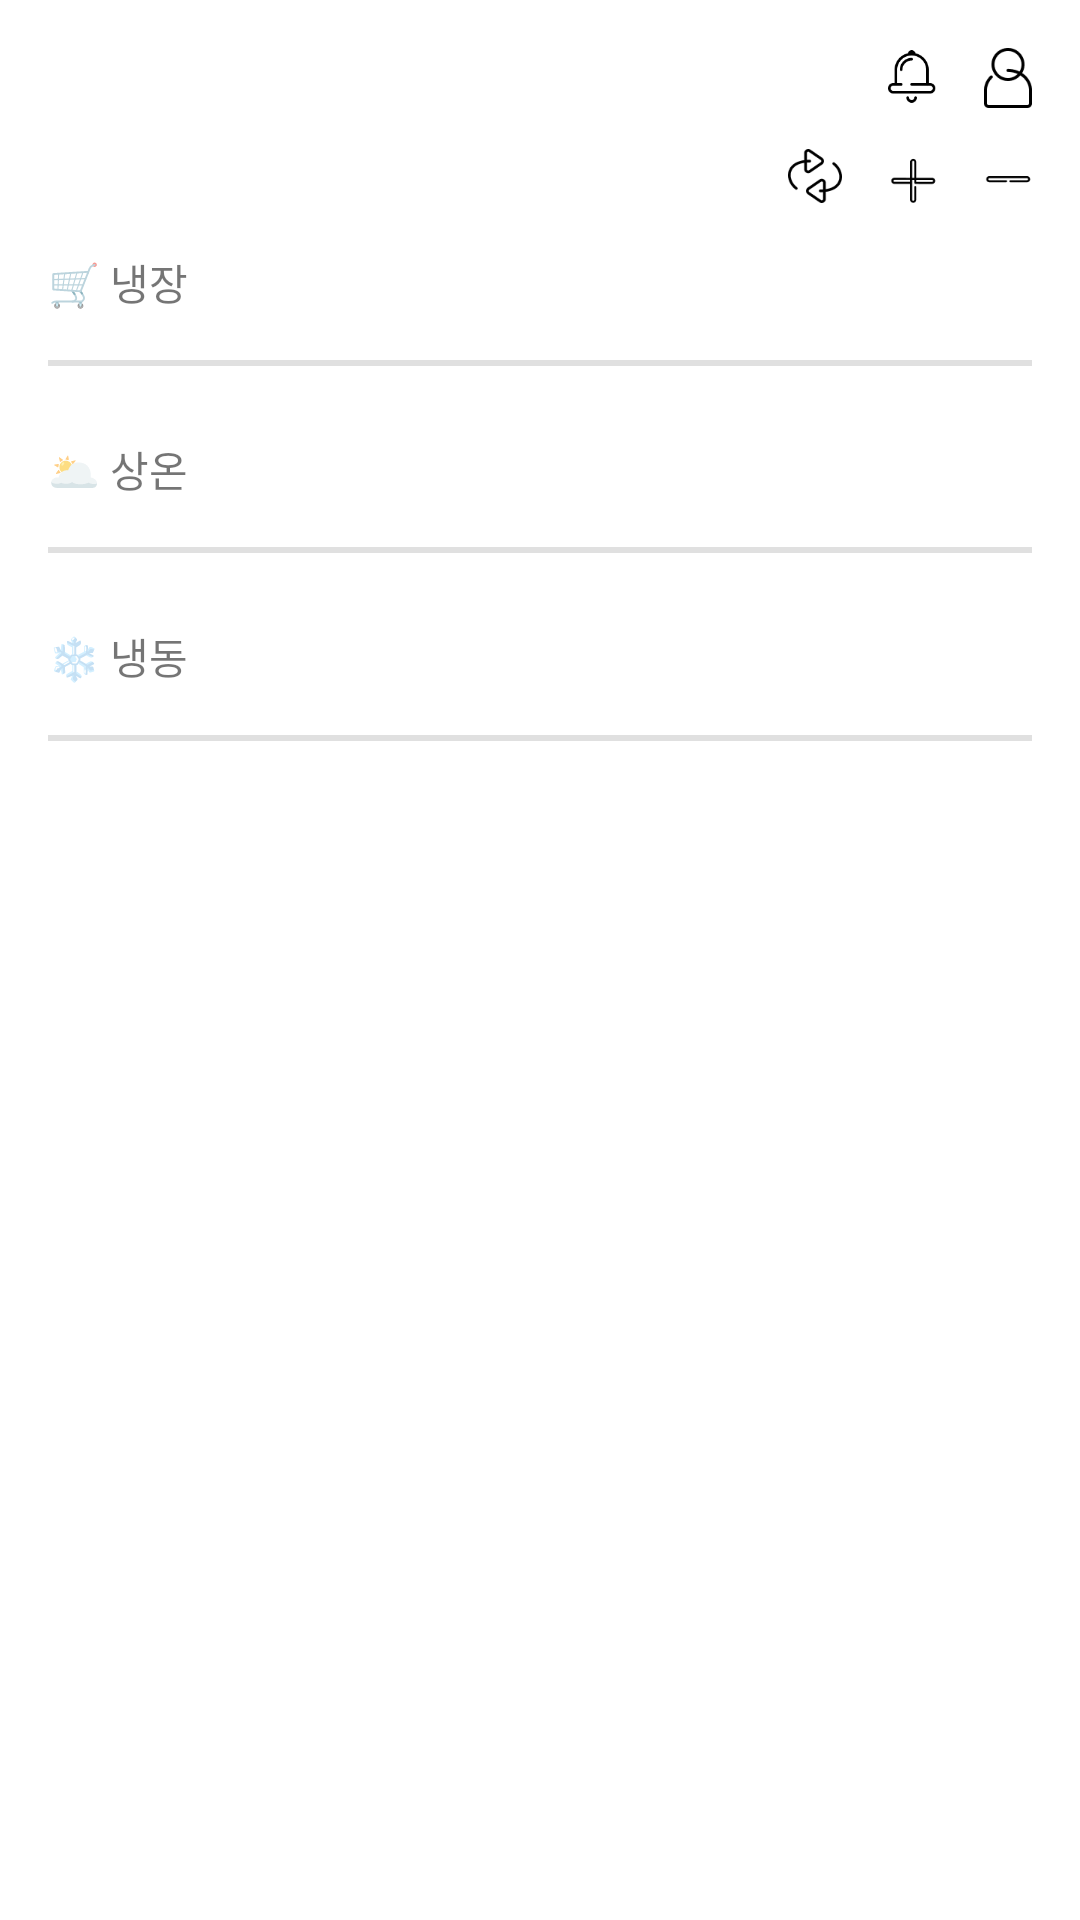

Locate icon controls on the screen. Image size 1080px x 1920px, boxes as [left=x1, top=y1, right=x2, bottom=y2].
alarm: [left=888, top=50, right=936, bottom=103]
profile: [left=984, top=48, right=1032, bottom=108]
repeat: [left=788, top=149, right=842, bottom=203]
